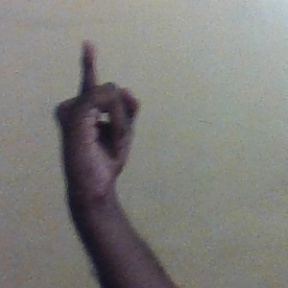I: (51, 39, 145, 190)
